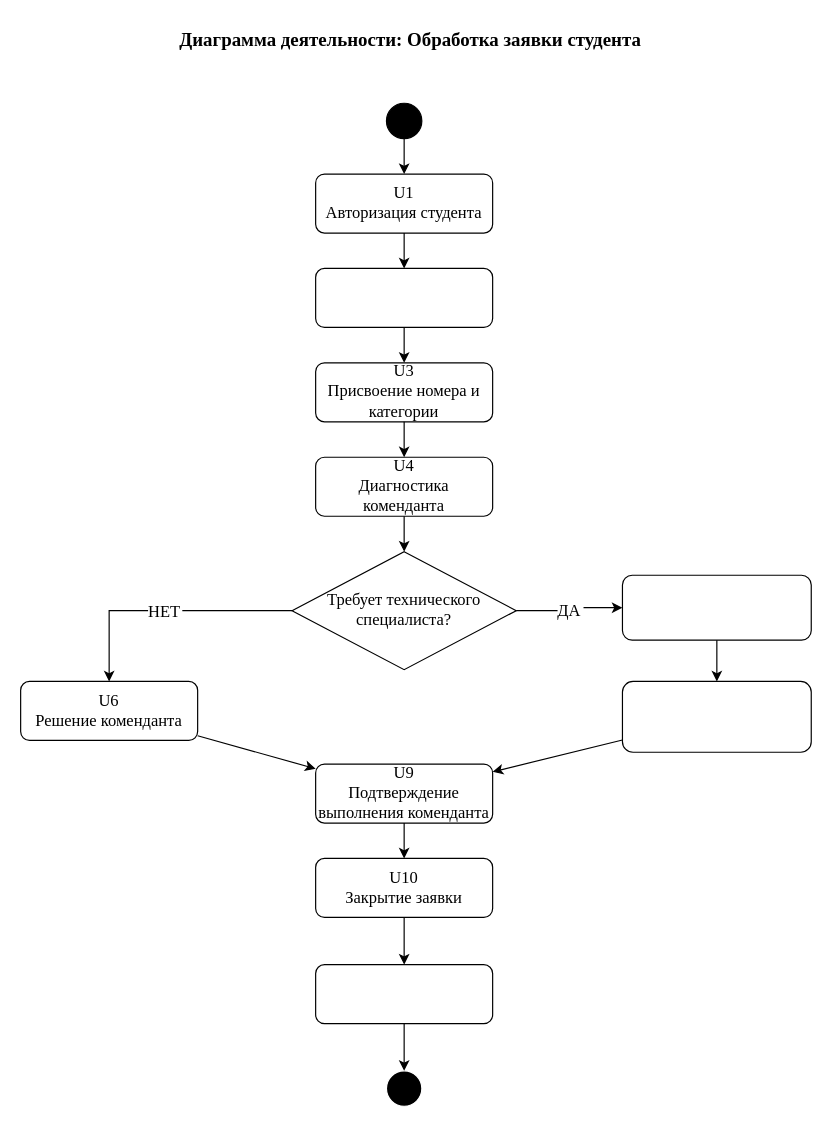
This 832x1127 diagram has some shape labels left out. The centre of each missing label's shape, as x and y in pixels:
"U11 Уведомление студента" belongs at point 403,993.
"U2 Создание заявки" belongs at point 403,297.
"U7 Передача техническому персоналу" belongs at point 716,607.
"U8 Выполнение технической работы" belongs at point 716,716.
